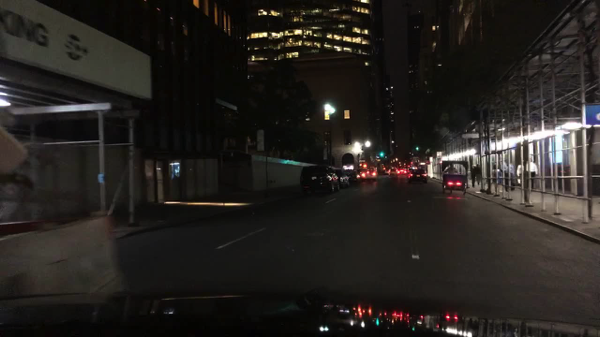car: (299, 164, 340, 196), (407, 168, 428, 184), (334, 169, 350, 189), (359, 167, 377, 182), (345, 170, 360, 184), (389, 168, 398, 176), (407, 168, 416, 176), (422, 169, 428, 180), (383, 169, 390, 176), (400, 169, 408, 175), (396, 168, 402, 175)
person: (527, 157, 538, 190), (503, 163, 514, 192), (493, 161, 502, 184), (469, 163, 477, 187), (474, 163, 482, 186)
rider: (444, 162, 459, 175)
traffic light: (362, 164, 367, 169), (379, 153, 384, 157), (382, 167, 387, 171), (415, 147, 419, 151)
traffic sign: (0, 127, 27, 176), (436, 151, 442, 158), (358, 159, 367, 163), (429, 157, 434, 163)
